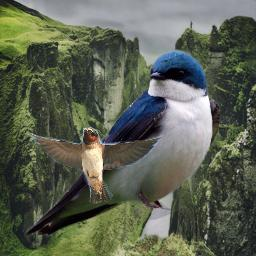Swallow: (24, 49, 221, 238), (25, 127, 164, 204)
